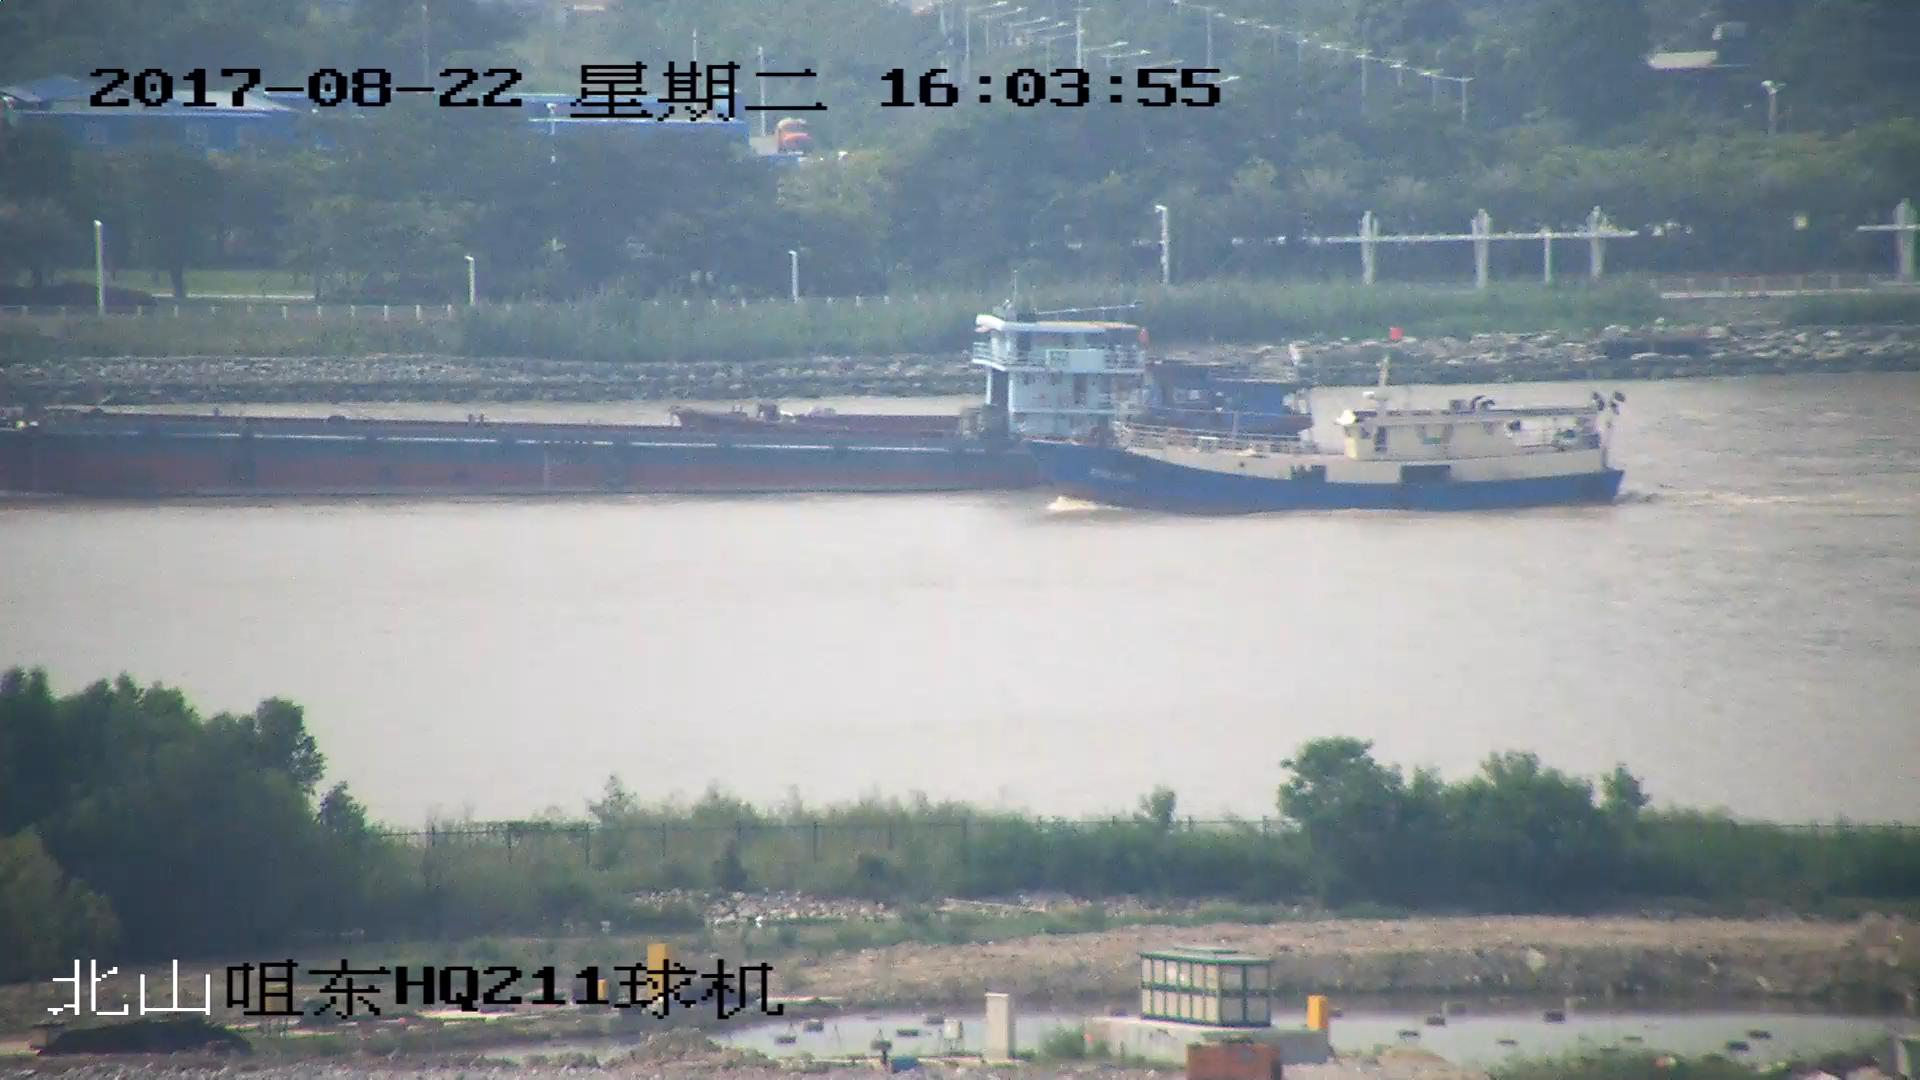bulk cargo carrier: (1, 301, 1140, 495)
fishing boat: (1029, 329, 1635, 512)
